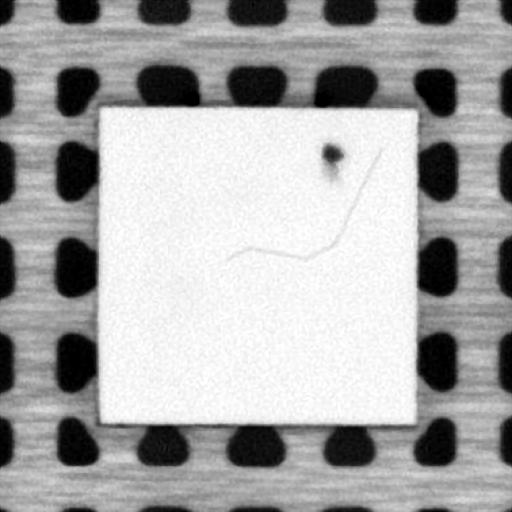DIE_INK: (314, 136, 346, 165)
